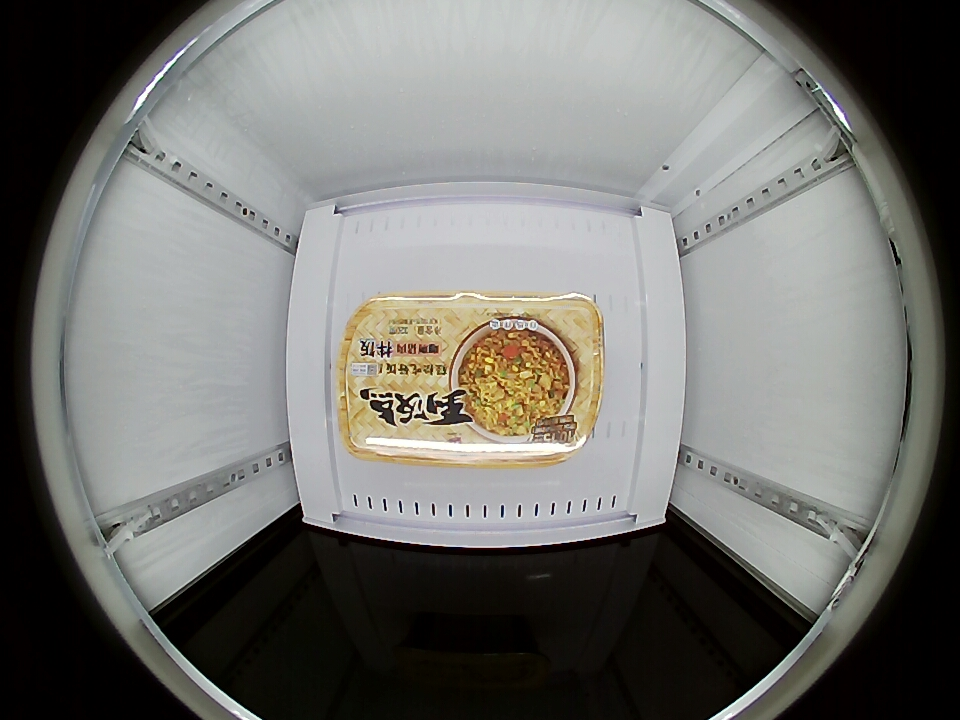daofandian3: (335, 290, 605, 468)
